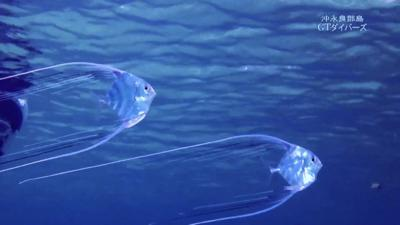Carangidae -Jacks-: (13, 128, 334, 221), (0, 58, 151, 167)
